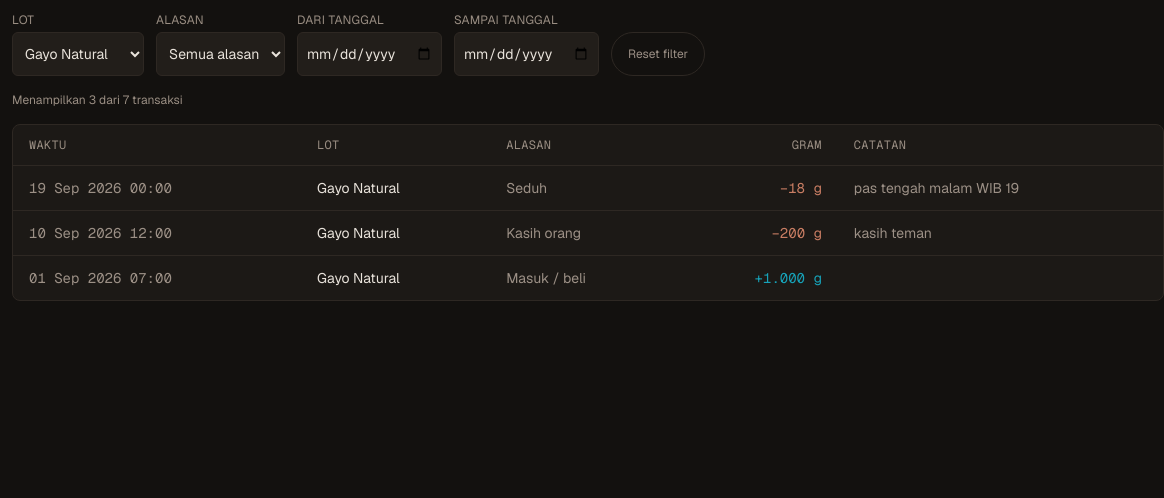
it: HistoryList reset filter › mengembalikan semua filter ke default, termasuk lot dari initialLotId
Select "Seduh" in the dropdown labelled "Alasan". click: x=220, y=54
box: [156, 32, 285, 76]
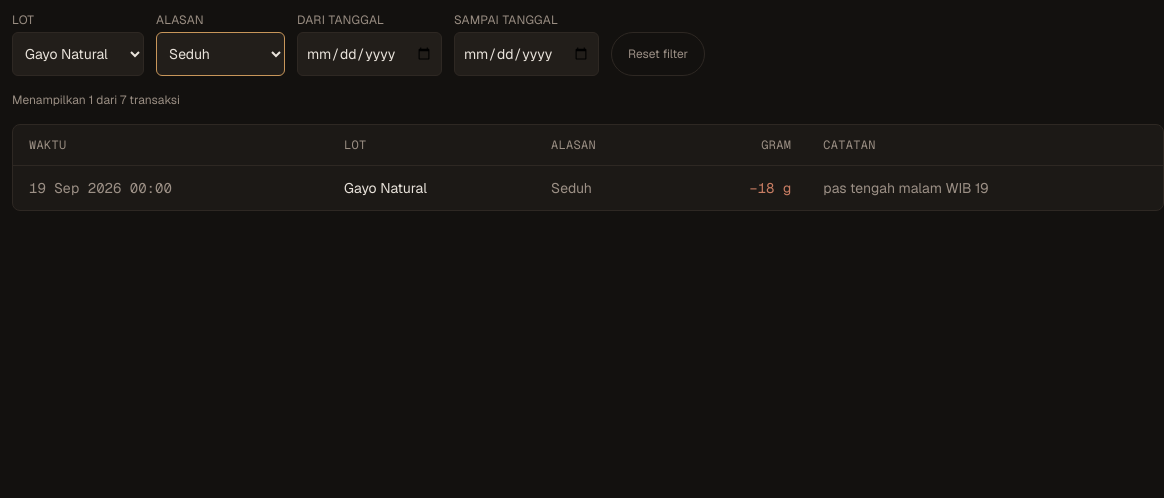
Type "2026-09-01" into the date field labelled "Dari tanggal". click: x=370, y=54
box: [297, 32, 442, 76]
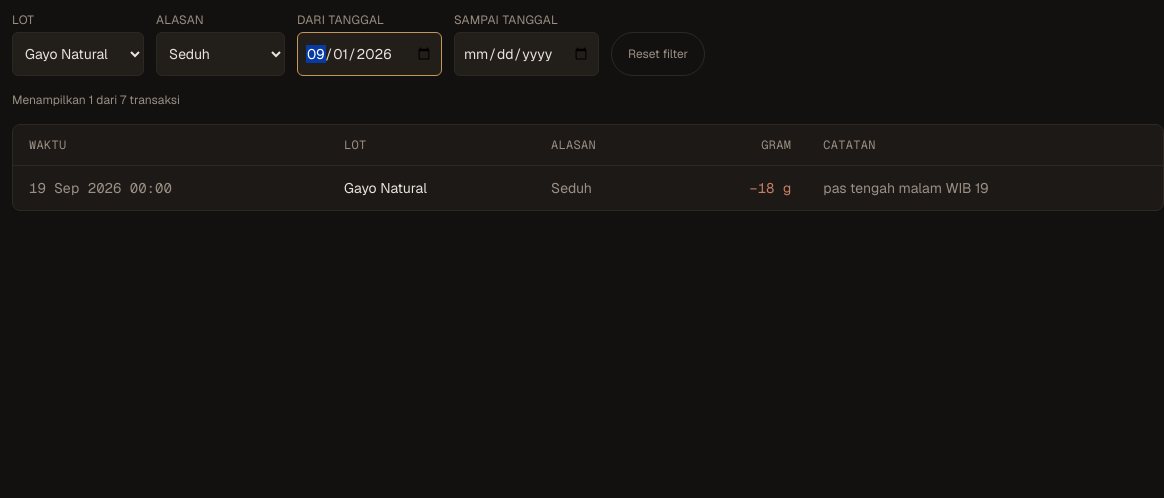
Click the button "Reset filter". click: x=658, y=54
box: [611, 32, 705, 76]
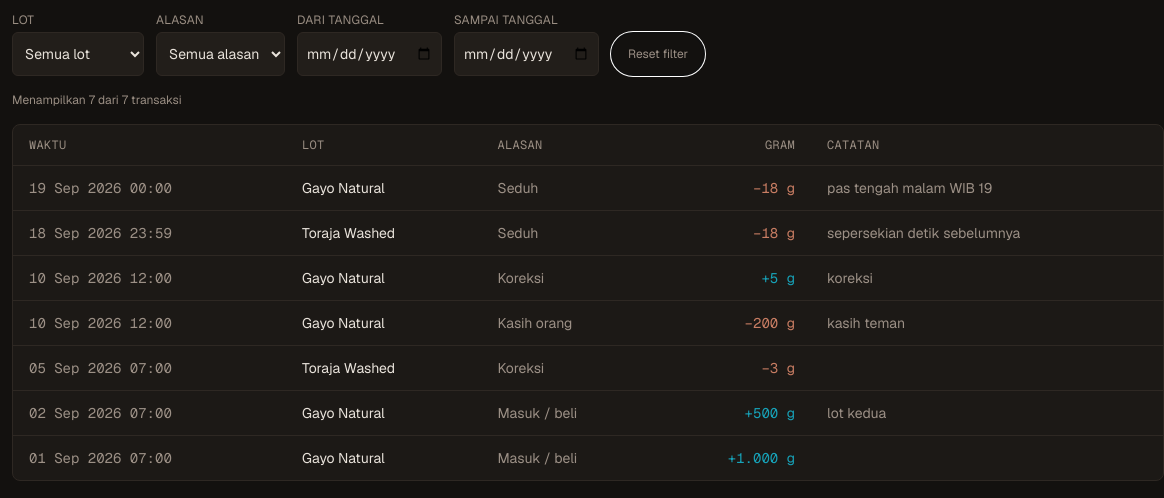
Check: the dropdown labelled "Lot" shows "Semua lot", box [12, 32, 144, 76]
Check: the date field labelled "Dari tanggal" is empty, box [297, 32, 442, 76]
Check: the text "Menampilkan 7 dari 7 transaksi" is shown, box [12, 92, 182, 108]
